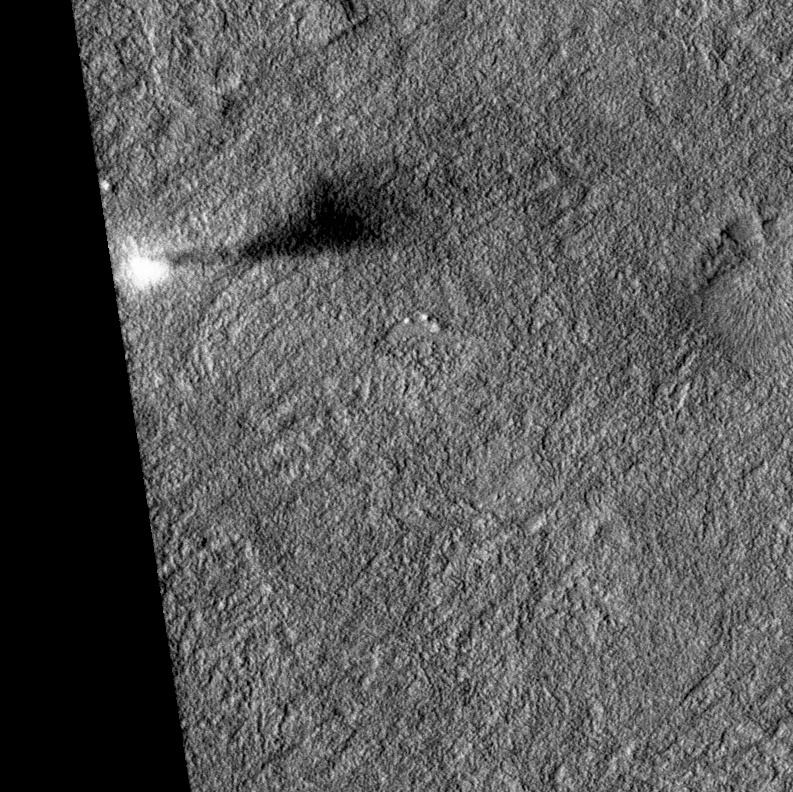dust_devil: (123, 163, 420, 292)
